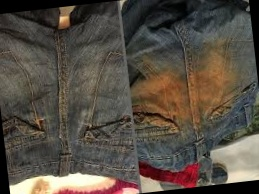earth: (189, 38, 236, 116), (139, 72, 190, 121)
